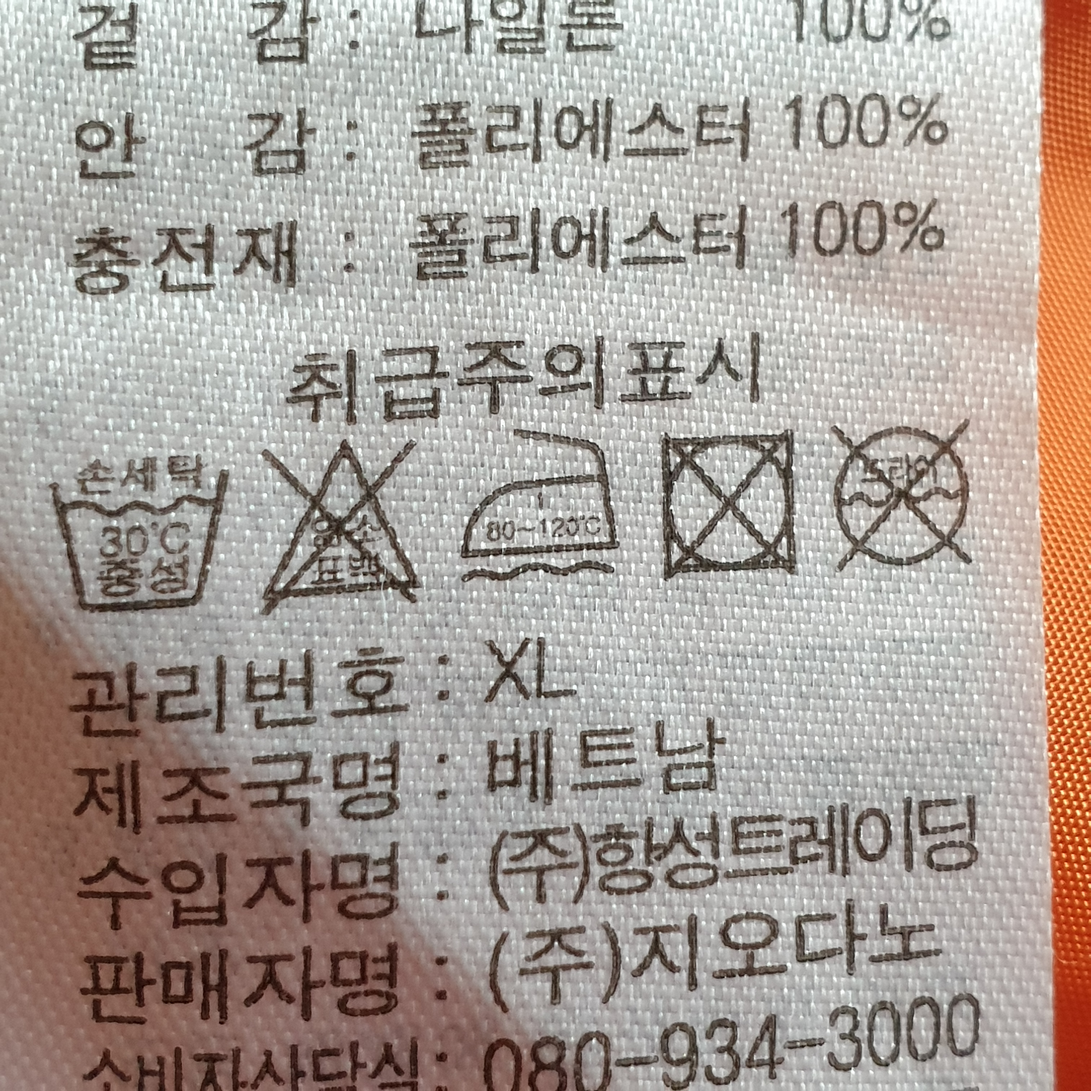KR_hand_wash_30_neutral: (37, 436, 231, 620)
KR_iron_low_temp_with_cloth: (451, 416, 619, 589)
KR_no_chlorine_bleach: (261, 441, 416, 616)
KR_no_dry_clean: (826, 416, 978, 579)
KR_no_tumble_dry: (646, 419, 806, 589)
